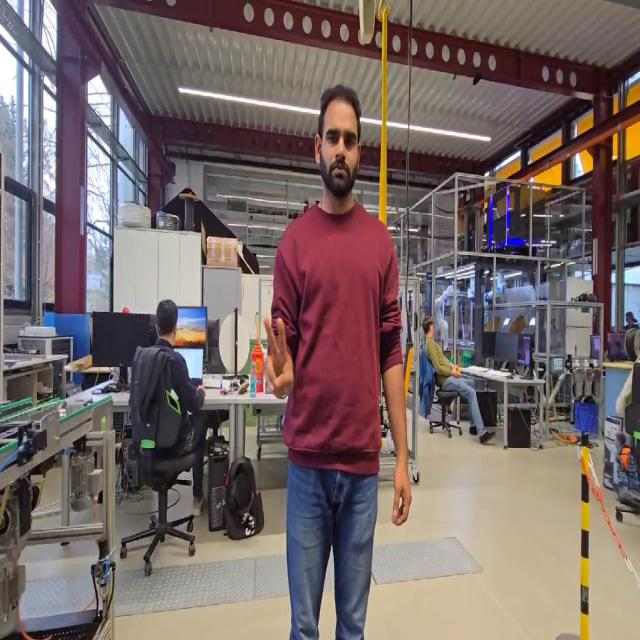v_sign: (260, 312, 296, 403)
